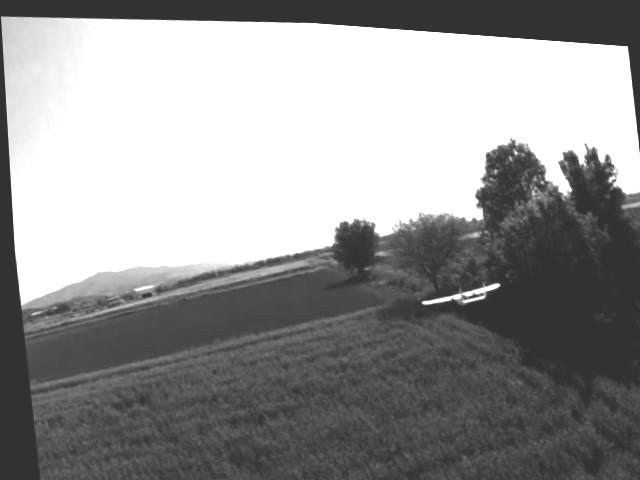hedef: (412, 263, 504, 317)
